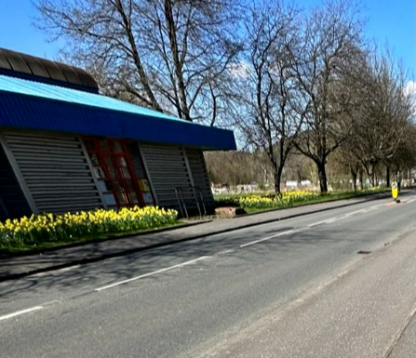tree: (36, 0, 232, 106), (289, 1, 352, 194), (240, 0, 302, 193), (354, 48, 403, 190)
